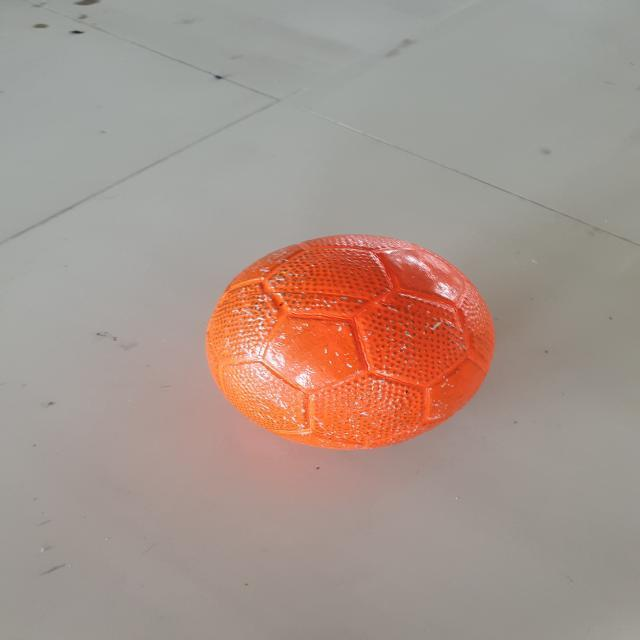bola: (203, 229, 502, 451)
